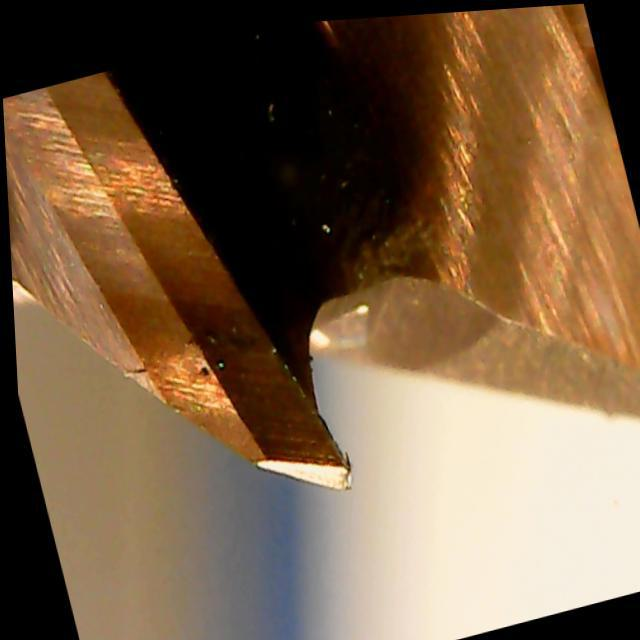Tool-wear-class-1: (166, 275, 401, 530)
